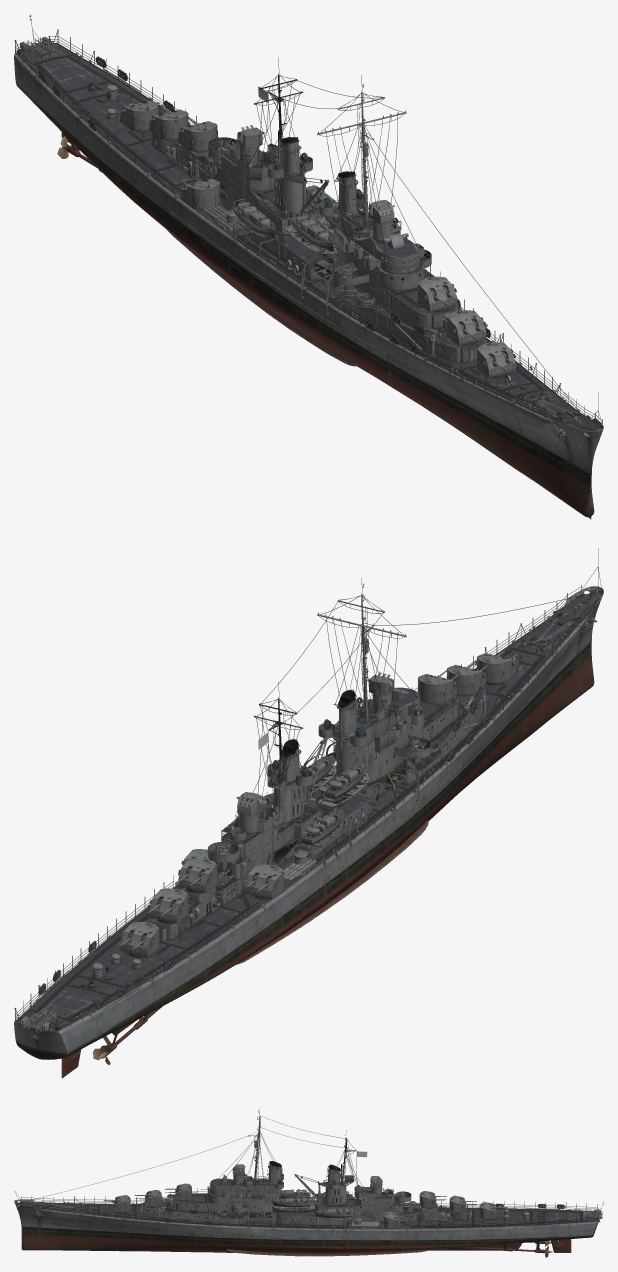
File: uss_atlanta_war_thunder-maximum-compressed.glb
3 renders of one model, top to bottom at view 1: azimuth 30°, elevation 25°; view 2: azimuth 150°, elevation 25°; view 3: azimuth 270°, elevation 25°, orthographic. The views are drawn at different scales.
Visible parts, largest first — view 1: Object_37, Object_18, Object_43, Object_47, Object_20, Object_16, Object_49, Object_50, Object_33, Object_46, Object_34, Object_51 (+13 smaller); view 2: Object_37, Object_18, Object_43, Object_20, Object_47, Object_49, Object_16, Object_50, Object_33, Object_46, Object_34, Object_51 (+12 smaller); view 3: Object_37, Object_43, Object_18, Object_20, Object_47, Object_49, Object_50, Object_16, Object_33, Object_34, Object_29, Object_64 (+13 smaller).
Part boxes in pixels (x1=…): Object_37: x1=14, y1=40, x2=602, y2=480; Object_18: x1=16, y1=43, x2=600, y2=431; Object_43: x1=16, y1=84, x2=594, y2=519; Object_47: x1=325, y1=206, x2=486, y2=362; Object_20: x1=15, y1=36, x2=601, y2=431; Object_16: x1=154, y1=84, x2=487, y2=356; Object_49: x1=195, y1=145, x2=336, y2=280; Object_50: x1=15, y1=14, x2=512, y2=385; Object_33: x1=38, y1=51, x2=565, y2=395; Object_46: x1=57, y1=57, x2=408, y2=263; Object_34: x1=14, y1=29, x2=602, y2=429; Object_51: x1=18, y1=52, x2=603, y2=476; Object_37: x1=14, y1=586, x2=602, y2=1054; Object_18: x1=16, y1=590, x2=601, y2=1031; Object_43: x1=16, y1=647, x2=594, y2=1078; Object_20: x1=15, y1=587, x2=601, y2=1029; Object_47: x1=327, y1=687, x2=486, y2=801; Object_49: x1=214, y1=785, x2=371, y2=904; Object_16: x1=153, y1=583, x2=486, y2=933; Object_50: x1=14, y1=656, x2=519, y2=1032; Object_33: x1=38, y1=599, x2=564, y2=1012; Object_46: x1=93, y1=578, x2=408, y2=1064; Object_34: x1=14, y1=567, x2=602, y2=1031; Object_51: x1=30, y1=548, x2=603, y2=1053; Object_37: x1=14, y1=1199, x2=602, y2=1241; Object_43: x1=21, y1=1230, x2=594, y2=1256; Object_18: x1=15, y1=1161, x2=599, y2=1228; Object_20: x1=19, y1=1116, x2=598, y2=1228; Object_47: x1=143, y1=1175, x2=280, y2=1226; Object_49: x1=280, y1=1185, x2=419, y2=1226; Object_50: x1=102, y1=1161, x2=603, y2=1221; Object_16: x1=143, y1=1177, x2=467, y2=1226; Object_33: x1=49, y1=1116, x2=566, y2=1228; Object_34: x1=15, y1=1175, x2=598, y2=1223; Object_29: x1=103, y1=1188, x2=506, y2=1228; Object_64: x1=272, y1=1191, x2=352, y2=1217.
Bounding box in the file's own units: 16.4 × 45.29 × 166.
Materials: 24 (24 with a texture image).
